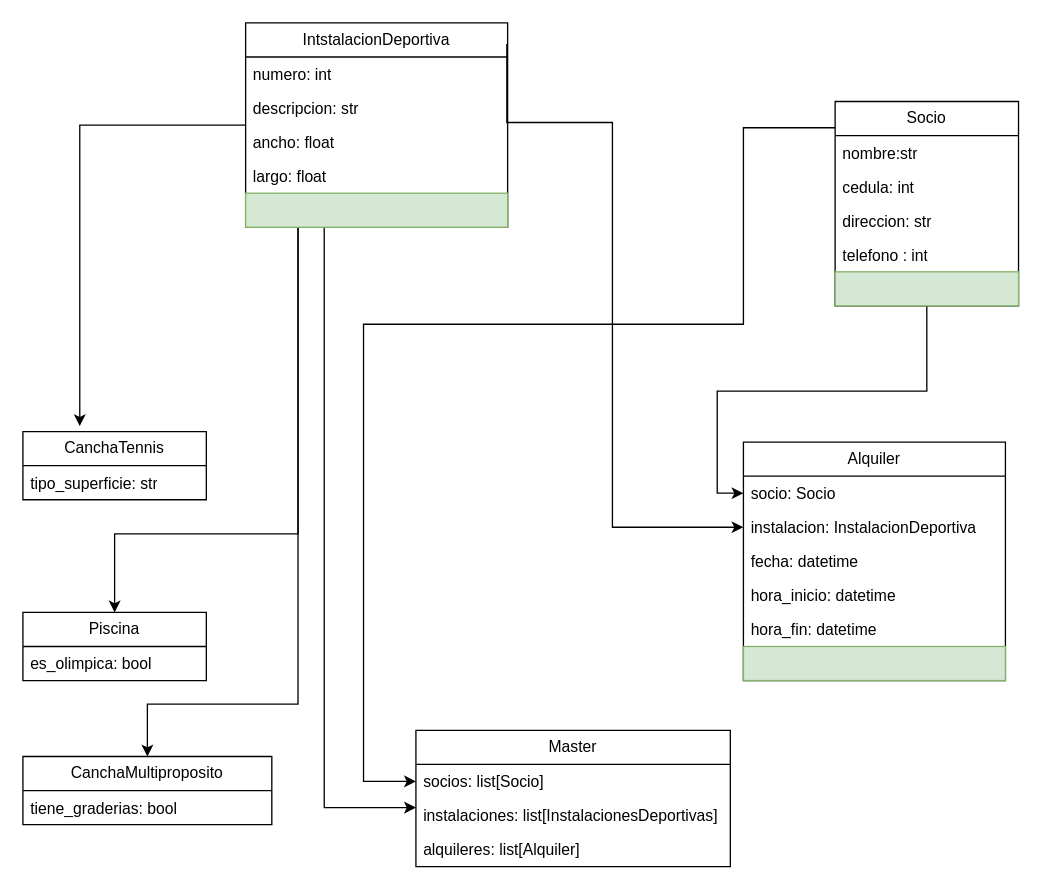
This 1041x893 diagram has some shape labels left out. The centre of each missing label's shape, as x and y in pixels:
"calcular_costos()" goes at (873,663).
"registrar_alquiler()" goes at (926,288).
"verificar_disponibilidad()" goes at (376,209).
